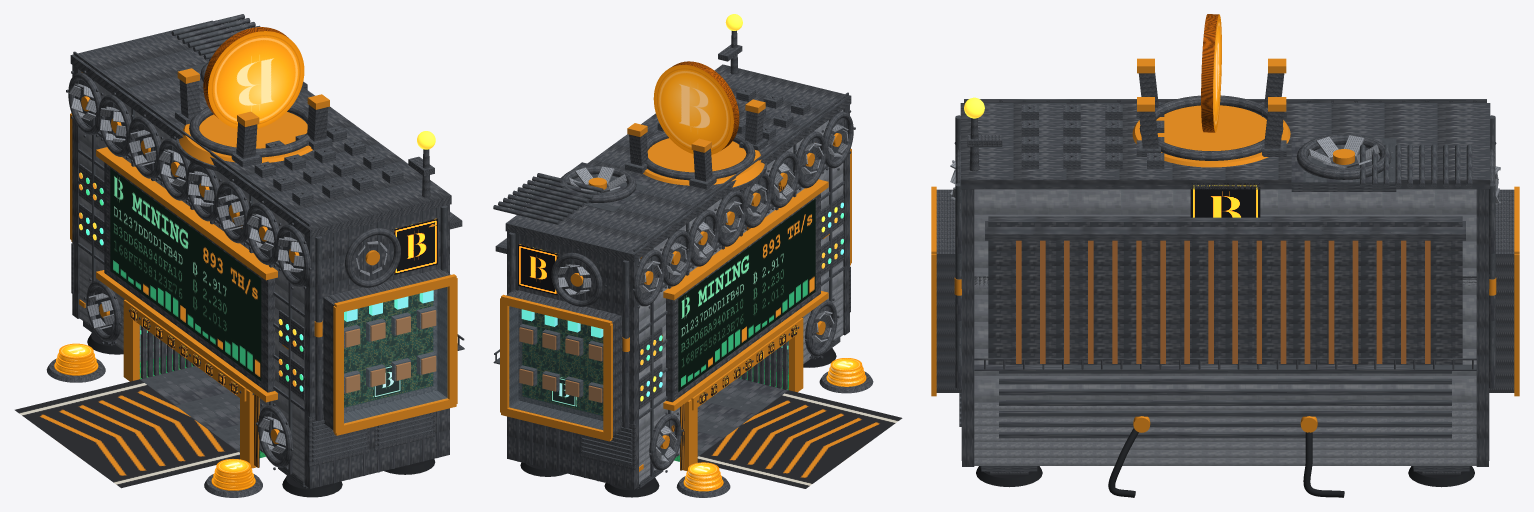
File: bitcoin_miner_megastructure.glb
3 views of the same model, side by side, from view 1: azimuth 30°, elevation 25°; view 2: azimuth 150°, elevation 25°; view 3: azimuth 270°, elevation 25° (orthographic). The views are drawn at different scales.
Visible parts, largest first — view 1: cap_top, terminal_screen, ground_entry_marking, hashbay_glass_R, corner_rib_right, coin_mesh, hashboard_pcb_R, mass_upper, tunnel_floor, terminal_bezel, terminal_hood, coin_cradle_deck (+48 smaller); view 2: cap_top, terminal_screen, ground_entry_marking, hashbay_glass_L, corner_rib_left, coin_mesh, hashboard_pcb_L, mass_upper, tunnel_floor, terminal_bezel, coin_cradle_deck, terminal_hood (+48 smaller); view 3: fin_manifold, cap_top, mass_upper, mass_behind_tunnel, fin_shroud_top, mass_lower_left, mass_lower_right, coin_cradle_deck, corner_rib_left, corner_rib_right, catwalk_deck, rear_louver_4 (+45 smaller).
Boxes of the visible parts, box(x1,y1,x2,y2) form: cap_top: box(70, 20, 451, 238); terminal_screen: box(110, 168, 261, 380); ground_entry_marking: box(15, 379, 239, 488); hashbay_glass_R: box(344, 287, 447, 423); corner_rib_right: box(304, 204, 449, 488); coin_mesh: box(203, 27, 304, 128); hashboard_pcb_R: box(344, 293, 433, 407); mass_upper: box(79, 70, 304, 425); tunnel_floor: box(140, 366, 239, 452); terminal_bezel: box(104, 162, 274, 392); terminal_hood: box(96, 147, 277, 280); coin_cradle_deck: box(179, 112, 312, 164); cap_top: box(505, 64, 851, 262); terminal_screen: box(678, 199, 815, 391); ground_entry_marking: box(697, 390, 902, 488); hashbay_glass_L: box(509, 306, 602, 429); corner_rib_left: box(507, 231, 638, 489); coin_mesh: box(653, 61, 739, 154); hashboard_pcb_L: box(522, 312, 603, 415); mass_upper: box(639, 110, 843, 432); tunnel_floor: box(697, 378, 788, 456); terminal_bezel: box(666, 193, 820, 402); coin_cradle_deck: box(643, 138, 764, 187); terminal_hood: box(663, 179, 828, 300); fin_manifold: box(988, 216, 1462, 364); cap_top: box(960, 103, 1490, 189); mass_upper: box(974, 189, 1476, 402); mass_behind_tunnel: box(1107, 406, 1343, 465); fin_shroud_top: box(985, 221, 1465, 240); mass_lower_left: box(1344, 402, 1476, 465); mass_lower_right: box(974, 402, 1106, 465); coin_cradle_deck: box(1132, 105, 1290, 167); corner_rib_left: box(1476, 189, 1488, 466); corner_rib_right: box(962, 189, 974, 466); catwalk_deck: box(974, 364, 1476, 370); rear_louver_4: box(999, 389, 1451, 395).
Bounding box in the file's own units: 107 × 134 × 169.
28 materials, 12 textured.
